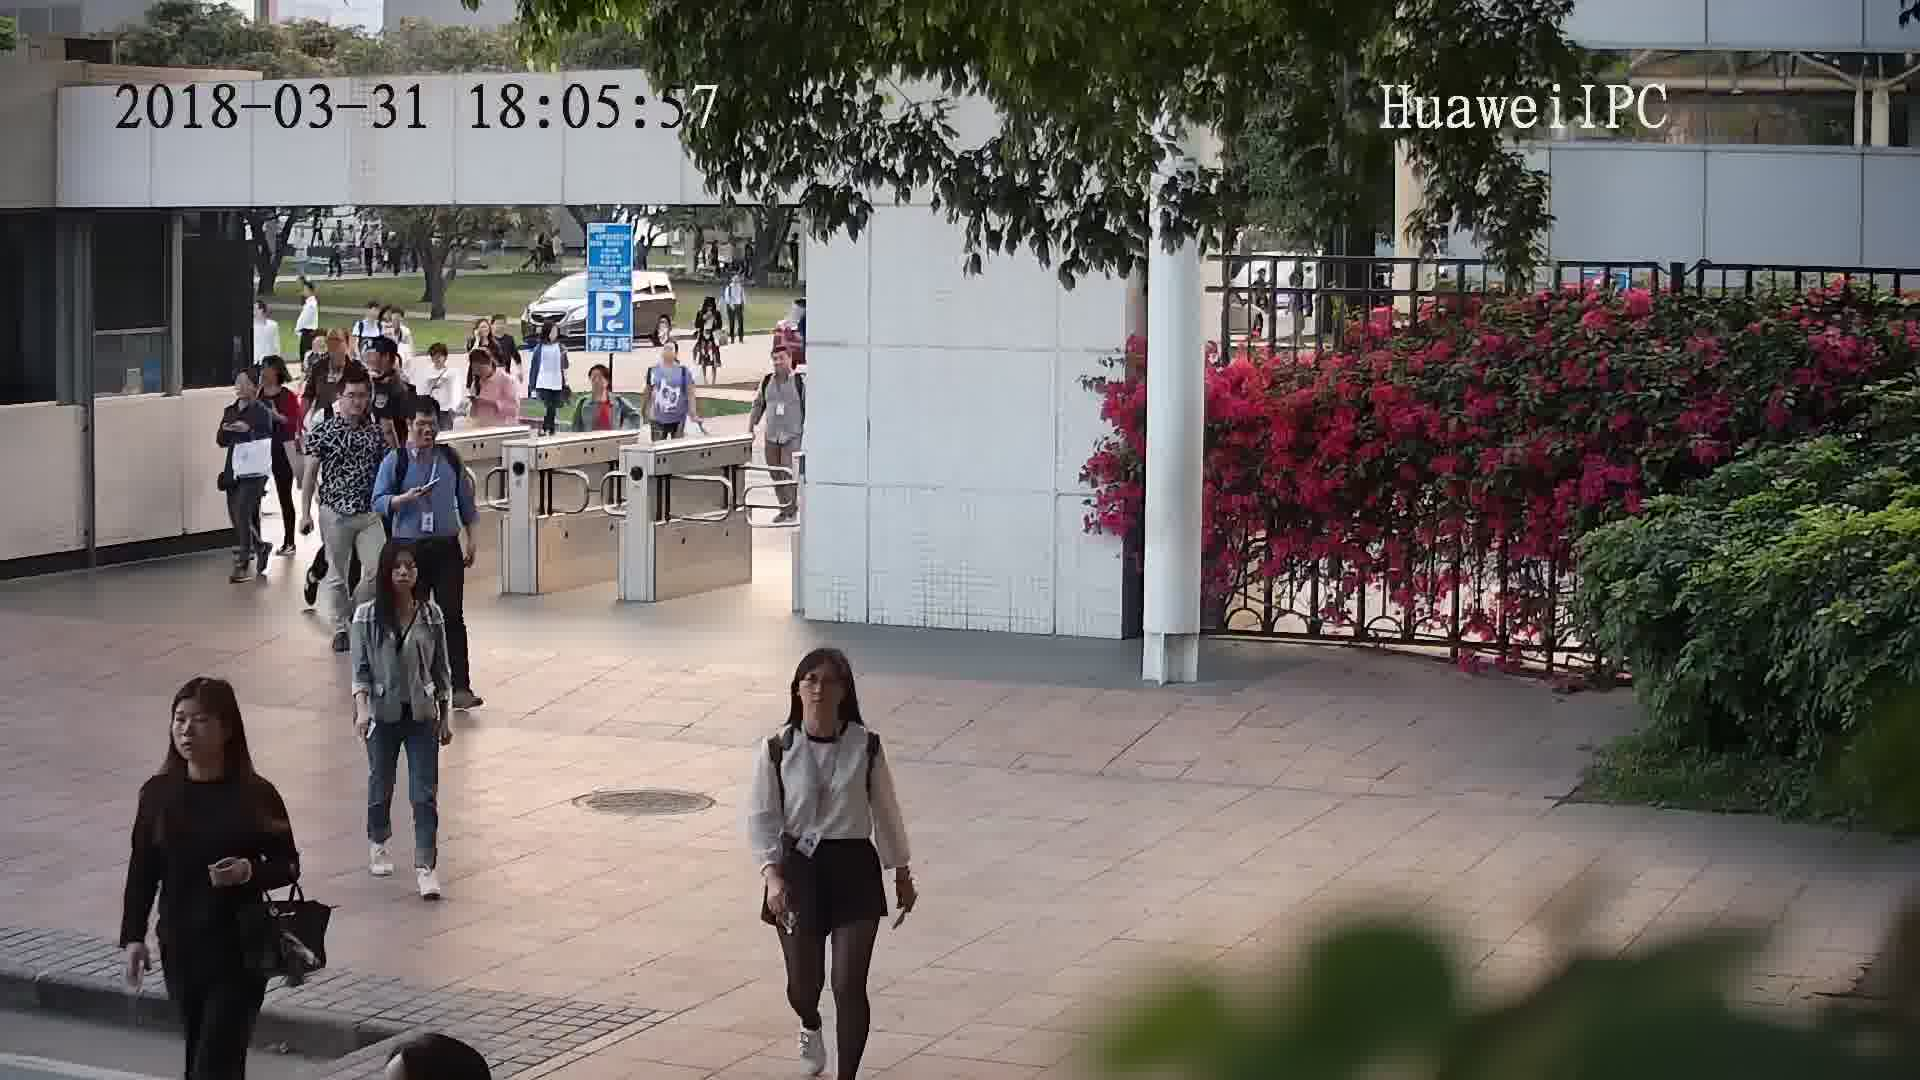face: (166, 697, 231, 762), (795, 660, 849, 714), (381, 547, 425, 597)
person: (140, 676, 286, 809), (761, 644, 889, 759), (356, 538, 445, 633), (381, 400, 463, 478), (311, 370, 388, 438), (220, 368, 273, 426), (254, 356, 299, 409), (362, 336, 407, 389), (467, 343, 513, 391), (314, 327, 362, 373), (761, 346, 807, 392), (580, 360, 623, 410), (650, 335, 695, 380), (419, 339, 462, 383), (372, 301, 412, 344), (489, 313, 523, 350), (462, 319, 499, 352), (250, 296, 280, 335), (535, 321, 568, 355), (357, 292, 386, 326), (298, 274, 323, 310), (700, 293, 722, 321), (725, 273, 748, 295)
